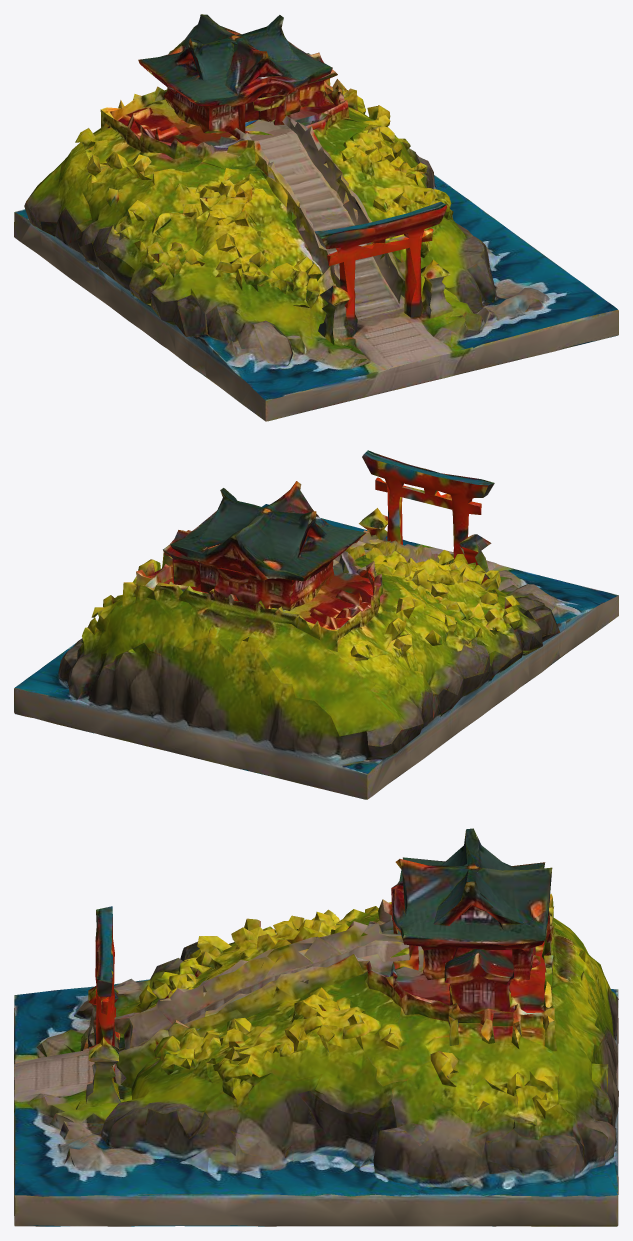
Rendered from kabushima-shrine.glb.
The picture shows the model from 3 angles, top to bottom: view 1: azimuth 30°, elevation 25°; view 2: azimuth 150°, elevation 25°; view 3: azimuth 270°, elevation 25°; orthographic projection. The views are drawn at different scales.
Parts seen in each view (by area): view 1: logan-textured.obj; view 2: logan-textured.obj; view 3: logan-textured.obj.
Boxes of the visible parts, x1,y1,x2,y2 form: logan-textured.obj: (14, 14, 618, 421); logan-textured.obj: (14, 450, 618, 799); logan-textured.obj: (14, 828, 618, 1226).
Size of the model in its own units: 0.8485 by 0.4737 by 1.
1 material, 1 textured.
